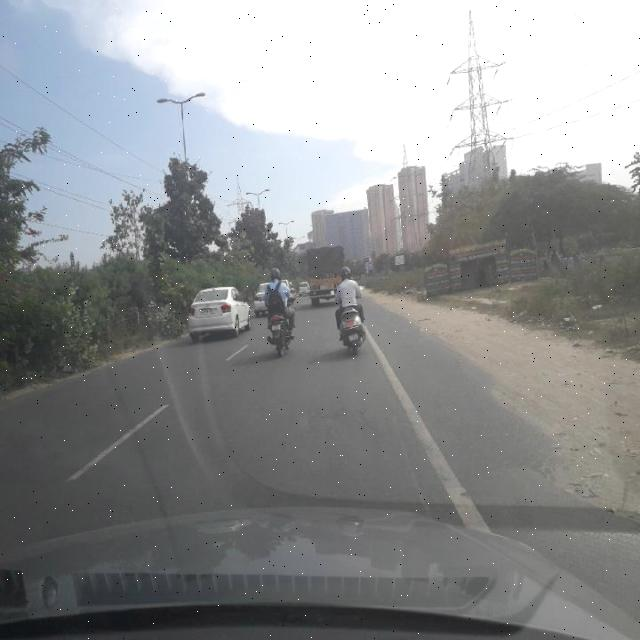D20: (252, 383, 386, 445)
